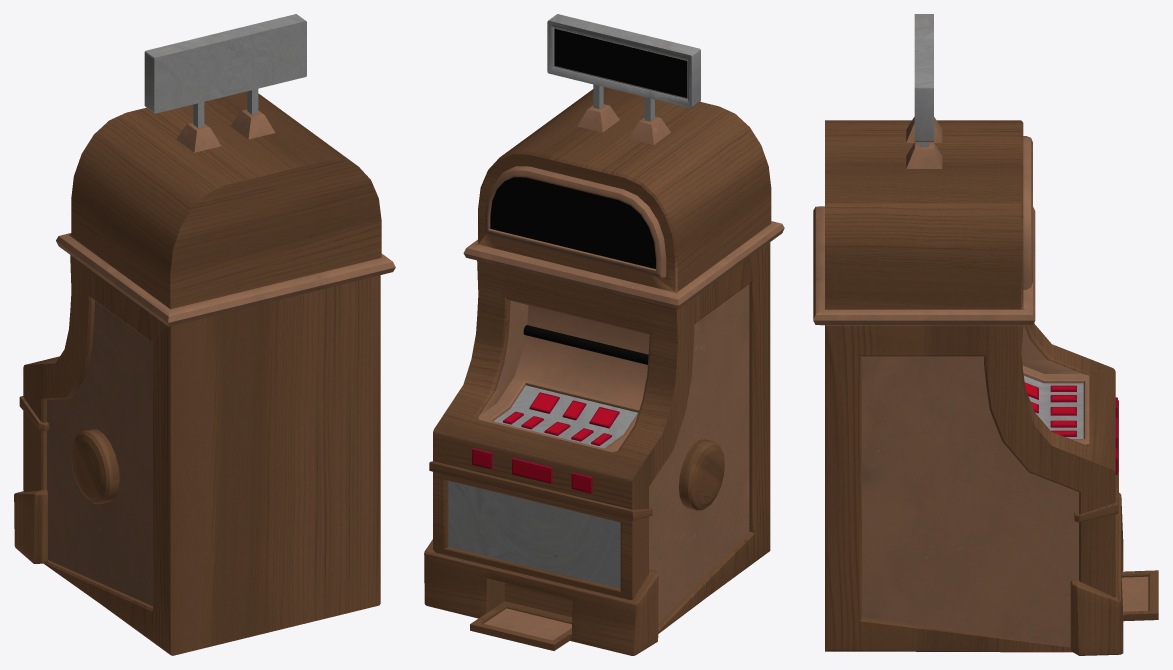
File: SlotMachine-Body.glb
3 renders of one model, left to right at view 1: azimuth 30°, elevation 25°; view 2: azimuth 150°, elevation 25°; view 3: azimuth 270°, elevation 25°, orthographic. The views are drawn at different scales.
Visible parts, largest first — view 1: SlotMachine-Body; view 2: SlotMachine-Body; view 3: SlotMachine-Body.
Part boxes in pixels (x1,y1,x2,y2): SlotMachine-Body: [14, 14, 395, 655]; SlotMachine-Body: [424, 14, 784, 655]; SlotMachine-Body: [813, 14, 1158, 655].
Bounding box in the file's own units: 2.67 × 6.19 × 3.51.
Materials: 7 (4 with a texture image).
